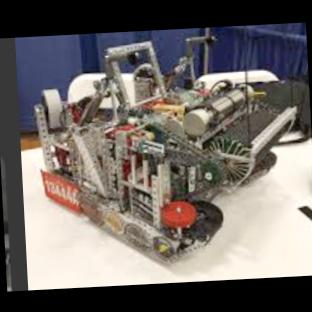Robot: (29, 31, 311, 271)
